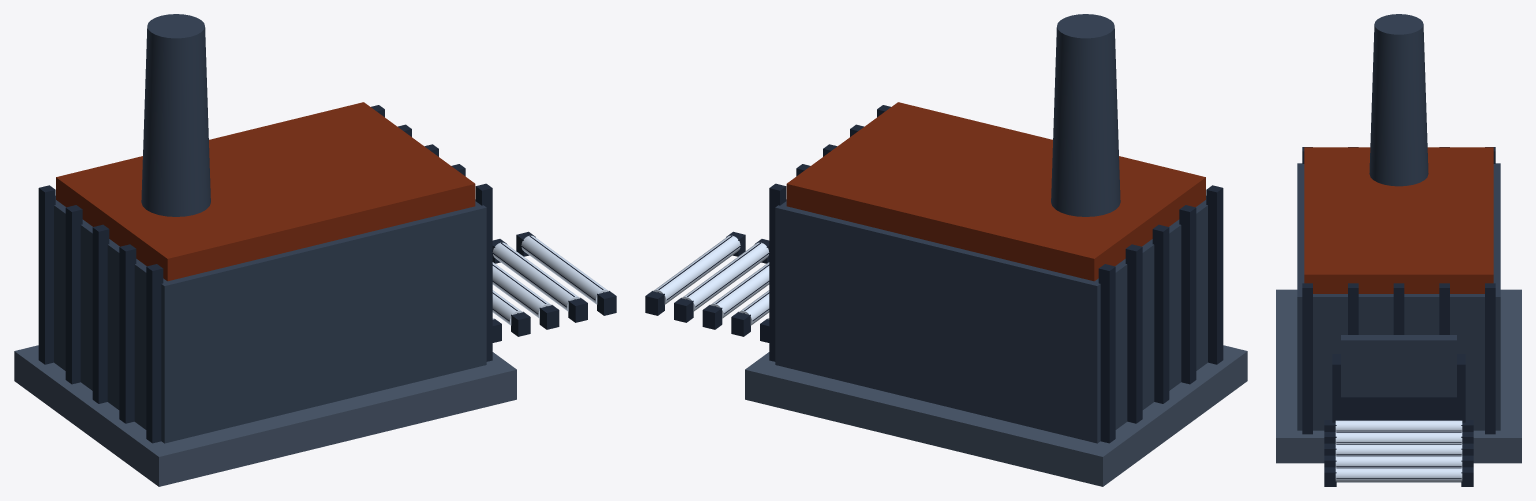
The model's file is reheating_furnace.glb.
3 views of the same model, side by side, from view 1: azimuth 30°, elevation 25°; view 2: azimuth 150°, elevation 25°; view 3: azimuth 270°, elevation 25° (orthographic). The views are drawn at different scales.
Visible parts, largest first — view 1: ReheatingFurnace, FurnaceDischargeRollers, FurnaceRoller_5, FurnaceRoller_4, FurnaceRoller_3; view 2: ReheatingFurnace, FurnaceDischargeRollers, FurnaceRoller_5, FurnaceRoller_4, FurnaceRoller_3; view 3: ReheatingFurnace, FurnaceDoor, FurnaceRoller_5, FurnaceRoller_2, FurnaceRoller_4, FurnaceRoller_3, FurnaceDischargeRollers, FurnaceRoller_1.
Boxes of the visible parts, x1=… form: ReheatingFurnace: x1=14, y1=14, x2=516, y2=486; FurnaceDischargeRollers: x1=492, y1=231, x2=616, y2=342; FurnaceRoller_5: x1=521, y1=235, x2=608, y2=304; FurnaceRoller_4: x1=492, y1=242, x2=579, y2=311; FurnaceRoller_3: x1=492, y1=262, x2=551, y2=318; ReheatingFurnace: x1=745, y1=14, x2=1247, y2=486; FurnaceDischargeRollers: x1=645, y1=231, x2=769, y2=342; FurnaceRoller_5: x1=653, y1=235, x2=740, y2=304; FurnaceRoller_4: x1=682, y1=242, x2=769, y2=311; FurnaceRoller_3: x1=710, y1=262, x2=769, y2=318; ReheatingFurnace: x1=1276, y1=14, x2=1521, y2=463; FurnaceDoor: x1=1341, y1=335, x2=1456, y2=397; FurnaceRoller_5: x1=1335, y1=467, x2=1462, y2=482; FurnaceRoller_2: x1=1335, y1=431, x2=1462, y2=443; FurnaceRoller_4: x1=1335, y1=455, x2=1462, y2=467; FurnaceRoller_3: x1=1335, y1=443, x2=1462, y2=455; FurnaceDischargeRollers: x1=1324, y1=420, x2=1473, y2=486; FurnaceRoller_1: x1=1335, y1=420, x2=1462, y2=431.
Bounding box in the file's own units: 13.63 × 10.3 × 7.
